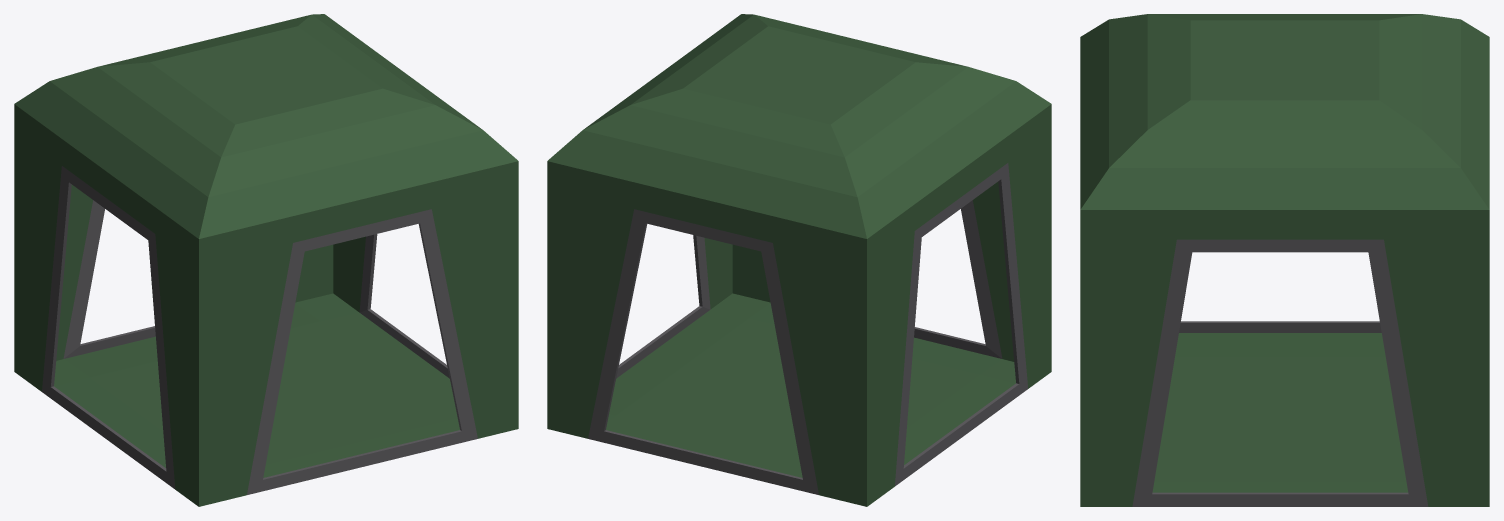
3 views of the same model, side by side, from view 1: azimuth 30°, elevation 25°; view 2: azimuth 150°, elevation 25°; view 3: azimuth 270°, elevation 25° (orthographic). The views are drawn at different scales.
Parts seen in each view (by area): view 1: Cube; view 2: Cube; view 3: Cube.
Part boxes in pixels (x1,y1,x2,y2): Cube: (14, 14, 518, 506); Cube: (547, 14, 1051, 506); Cube: (1080, 14, 1489, 506).
Size of the model in its own units: 200 by 194 by 200.
